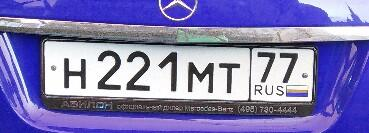license-plateSW: (42, 39, 315, 104)
